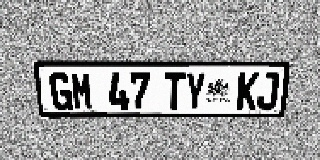4: (108, 72, 130, 110)
7: (129, 72, 150, 110)
G: (49, 72, 73, 111)
J: (256, 72, 280, 110)
K: (236, 72, 260, 110)
M: (70, 72, 94, 110)
T: (164, 72, 185, 110)
Y: (185, 72, 206, 110)
